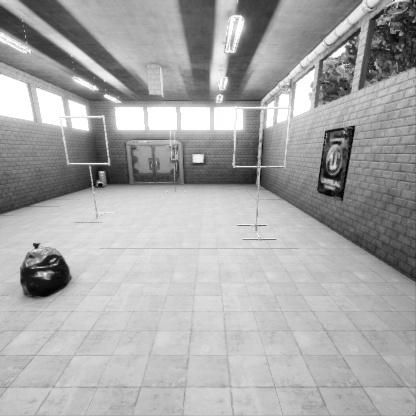gate: (235, 250, 297, 312), (63, 253, 115, 300), (170, 257, 175, 287)
